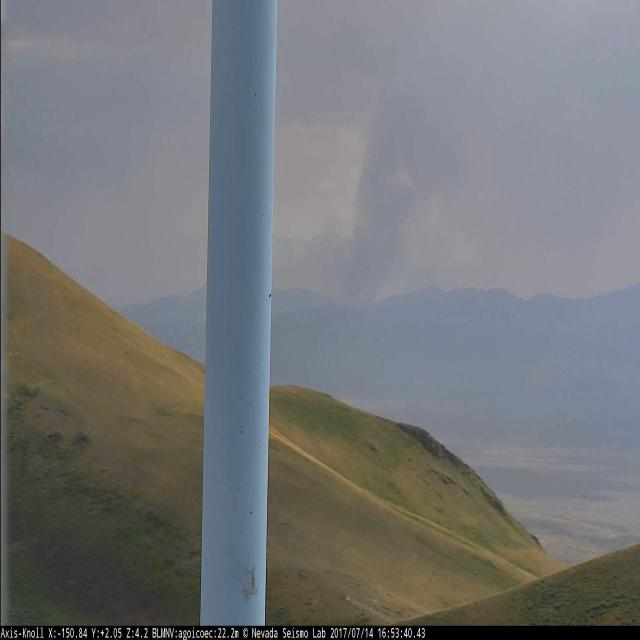smoke: (333, 95, 442, 312)
